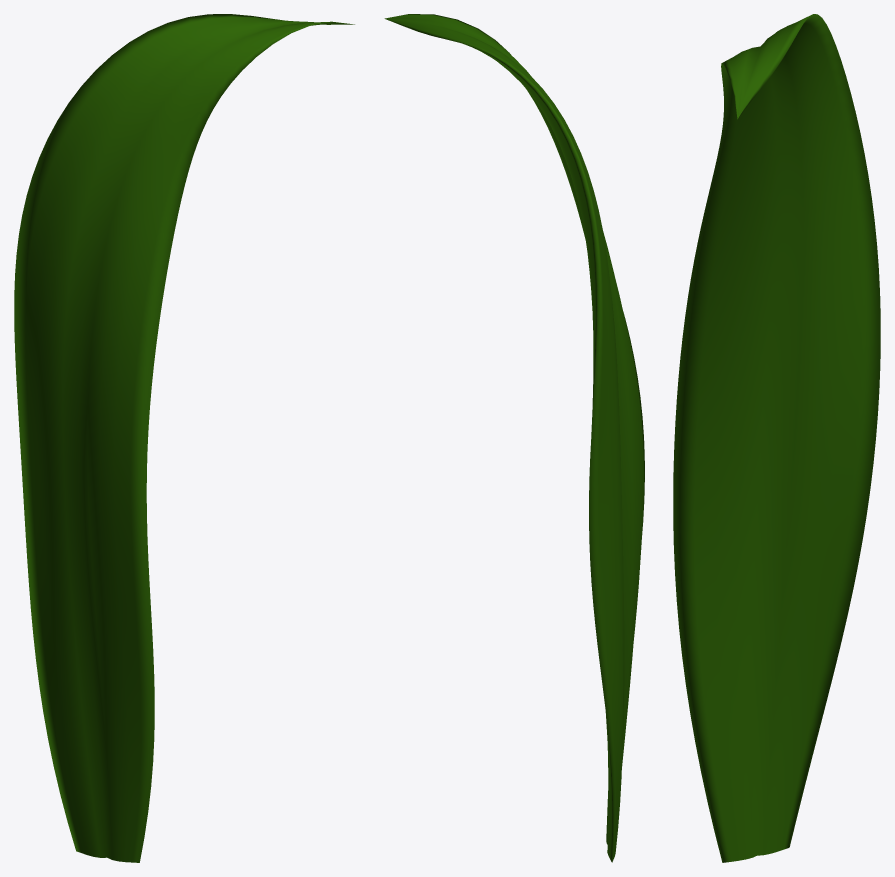
3 renders of one model, left to right at view 1: azimuth 30°, elevation 25°; view 2: azimuth 150°, elevation 25°; view 3: azimuth 270°, elevation 25°, orthographic. The views are drawn at different scales.
Visible parts, largest first — view 1: ТраекторияNurbs.002; view 2: ТраекторияNurbs.002; view 3: ТраекторияNurbs.002.
Boxes of the visible parts, left/top/right/bottom form: ТраекторияNurbs.002: left=14, top=14, right=354, bottom=862; ТраекторияNurbs.002: left=384, top=14, right=644, bottom=862; ТраекторияNurbs.002: left=673, top=14, right=880, bottom=862.
Bounding box in the file's own units: 99.38 × 273 × 57.8.
